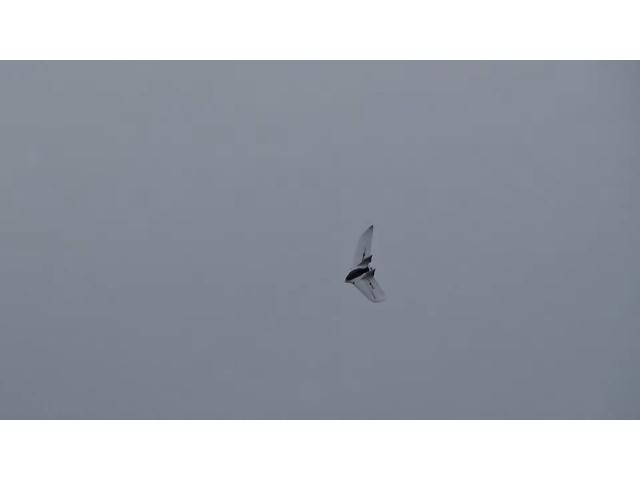Anti-Drone: (346, 225, 388, 303)
